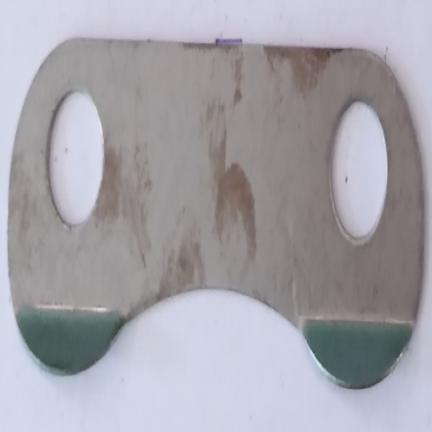besi_tidak_karat: (8, 40, 425, 389)
karat: (215, 163, 256, 258), (163, 242, 205, 301), (98, 135, 124, 229)
